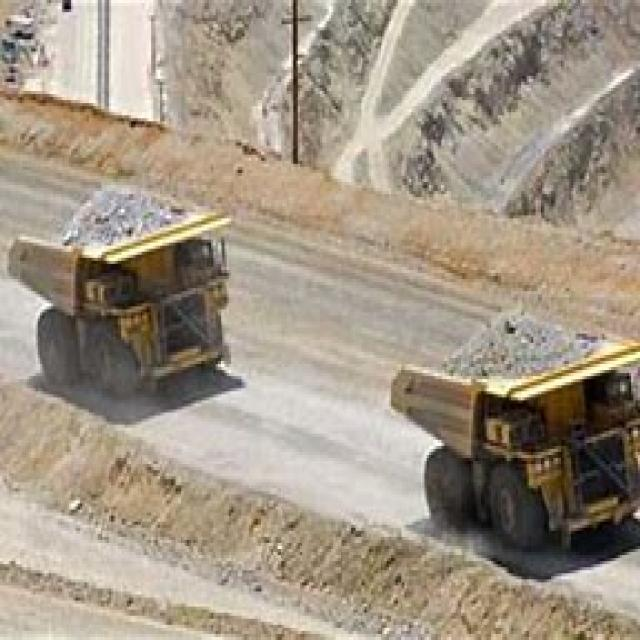dump_truck: (382, 285, 638, 570), (9, 170, 244, 412)
